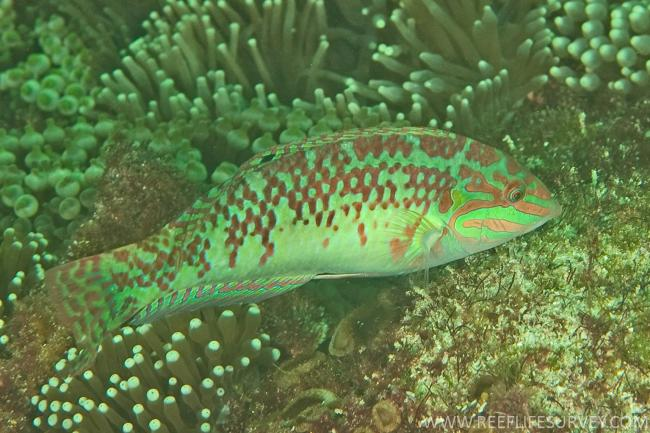fish: (44, 125, 562, 347)
